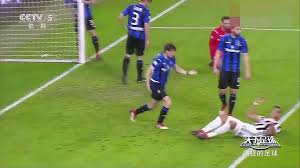fall: (189, 95, 289, 142)
